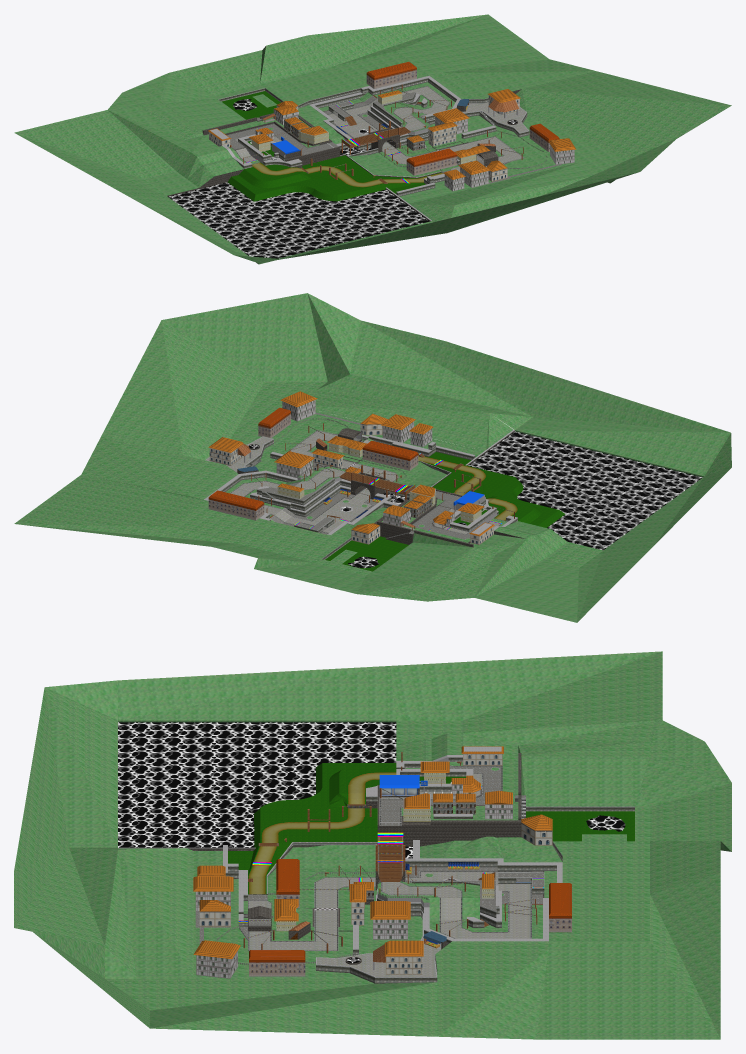
File: course.obj
3 renders of one model, top to bottom at view 1: azimuth 30°, elevation 25°; view 2: azimuth 150°, elevation 25°; view 3: azimuth 270°, elevation 25°, orthographic. The views are drawn at different scales.
Parts seen in each view (by area): view 1: polygon1, polygon2, polygon7, polygon18, polygon33, polygon29, polygon23, polygon28, polygon0, polygon19, polygon9, polygon24 (+7 smaller); view 2: polygon1, polygon2, polygon7, polygon29, polygon33, polygon18, polygon28, polygon23, polygon19, polygon0, polygon9, polygon14 (+5 smaller); view 3: polygon1, polygon2, polygon33, polygon7, polygon29, polygon18, polygon23, polygon0, polygon28, polygon19, polygon9, polygon14 (+8 smaller).
Boxes of the visible parts, box(x1,y1,x2,y2) form: polygon1: box(14, 14, 731, 264); polygon2: box(168, 99, 517, 258); polygon7: box(222, 91, 425, 201); polygon18: box(218, 78, 529, 196); polygon33: box(235, 86, 528, 171); polygon29: box(208, 89, 576, 179); polygon23: box(210, 75, 529, 220); polygon28: box(366, 61, 559, 175); polygon0: box(167, 89, 521, 221); polygon19: box(227, 92, 561, 183); polygon9: box(255, 109, 574, 191); polygon24: box(230, 84, 523, 183); polygon1: box(14, 293, 731, 622); polygon2: box(249, 431, 702, 568); polygon7: box(325, 452, 565, 571); polygon29: box(208, 391, 494, 536); polygon33: box(206, 430, 500, 534); polygon18: box(221, 436, 517, 559); polygon28: box(208, 407, 418, 520); polygon23: box(204, 430, 517, 539); polygon19: box(246, 412, 479, 540); polygon0: box(244, 428, 524, 547); polygon9: box(276, 400, 454, 527); polygon14: box(209, 423, 493, 544); polygon1: box(14, 651, 731, 1039); polygon2: box(118, 722, 625, 963); polygon33: box(248, 774, 530, 976); polygon7: box(228, 763, 634, 875); polygon29: box(193, 746, 552, 958); polygon18: box(225, 757, 634, 983); polygon23: box(118, 746, 562, 977); polygon0: box(188, 753, 521, 964); polygon28: box(249, 859, 571, 976); polygon19: box(195, 766, 543, 944); polygon9: box(195, 784, 512, 978); polygon14: box(199, 754, 552, 974).
Size of the model in its own units: 168238 by 15556 by 126383.
Materials: 34 (34 with a texture image).
